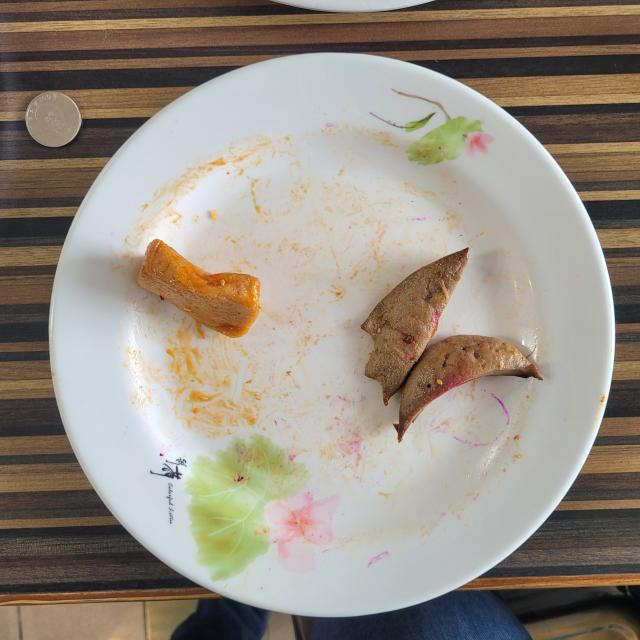coin: (25, 91, 81, 148)
creamy tofu: (138, 239, 260, 338)
pig liver: (361, 249, 541, 441)
